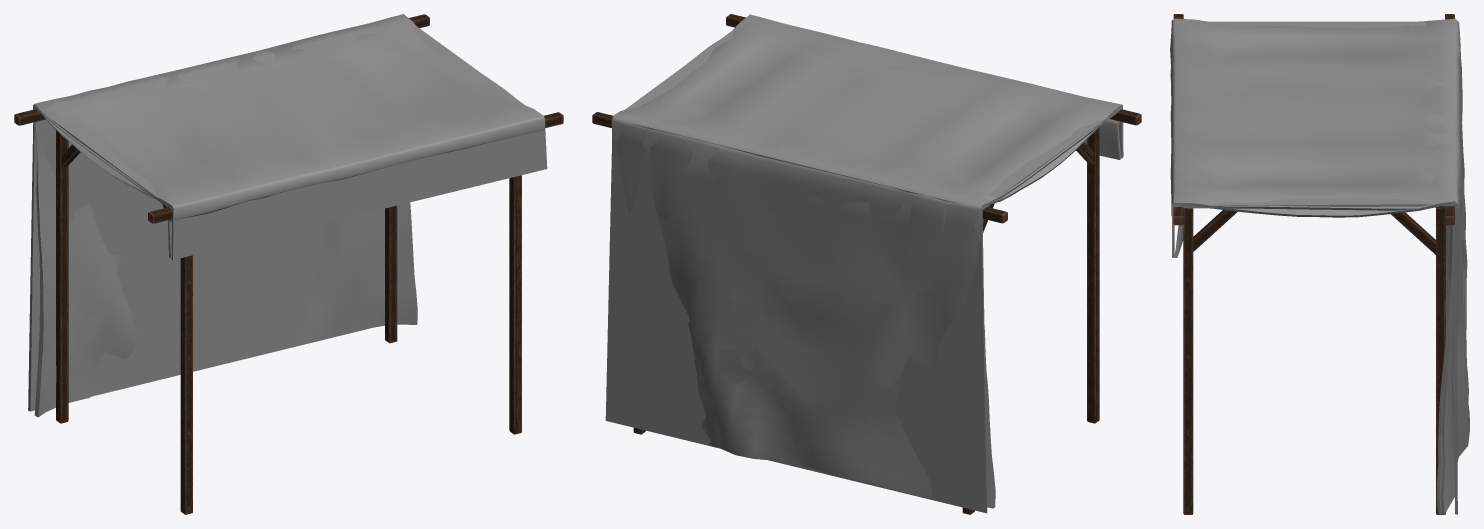
File: MarketStall02.glb
3 views of the same model, side by side, from view 1: azimuth 30°, elevation 25°; view 2: azimuth 150°, elevation 25°; view 3: azimuth 270°, elevation 25° (orthographic).
Parts seen in each view (by area): view 1: MarketStall02_Cloth, MarketStall2_Frame; view 2: MarketStall02_Cloth, MarketStall2_Frame; view 3: MarketStall02_Cloth, MarketStall2_Frame.
Boxes of the visible parts, x1,y1,x2,y2 form: MarketStall02_Cloth: [28, 14, 547, 417]; MarketStall2_Frame: [14, 14, 563, 514]; MarketStall02_Cloth: [605, 14, 1123, 513]; MarketStall2_Frame: [592, 14, 1141, 514]; MarketStall02_Cloth: [1170, 18, 1469, 514]; MarketStall2_Frame: [1173, 14, 1454, 514].
Bounding box in the file's own units: 4.34 × 3.24 × 2.7.
2 materials, 1 textured.
